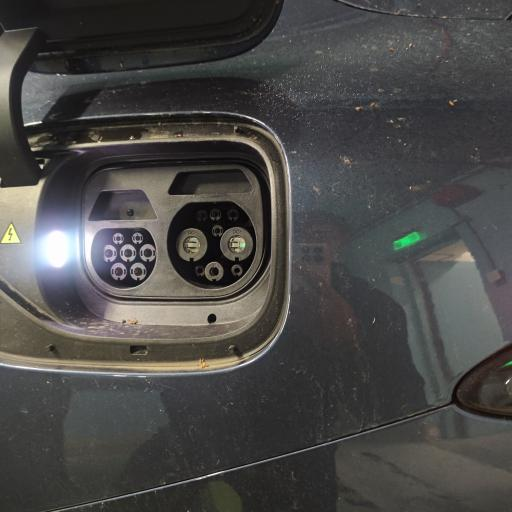AC_charging_hole: (90, 227, 159, 291)
DC_charging_port: (165, 198, 260, 292)
DC_hole: (172, 224, 210, 264), (217, 225, 256, 263)
PE: (204, 260, 225, 283)
